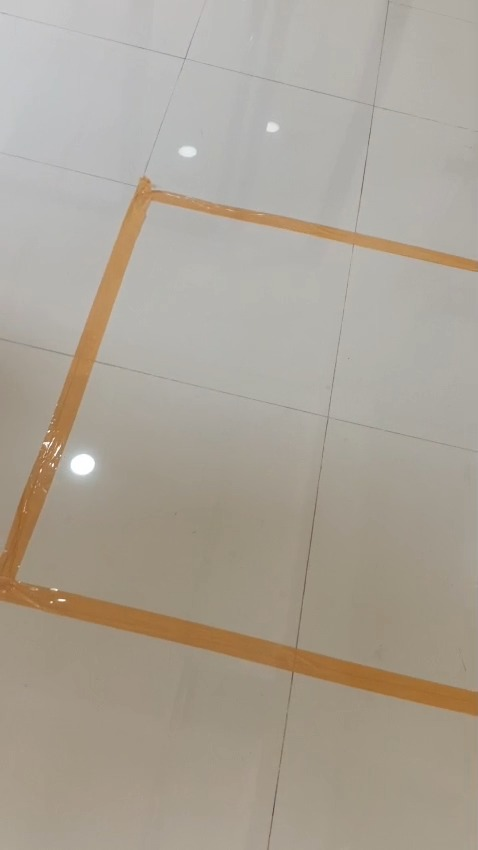floor marking: (0, 178, 477, 715)
